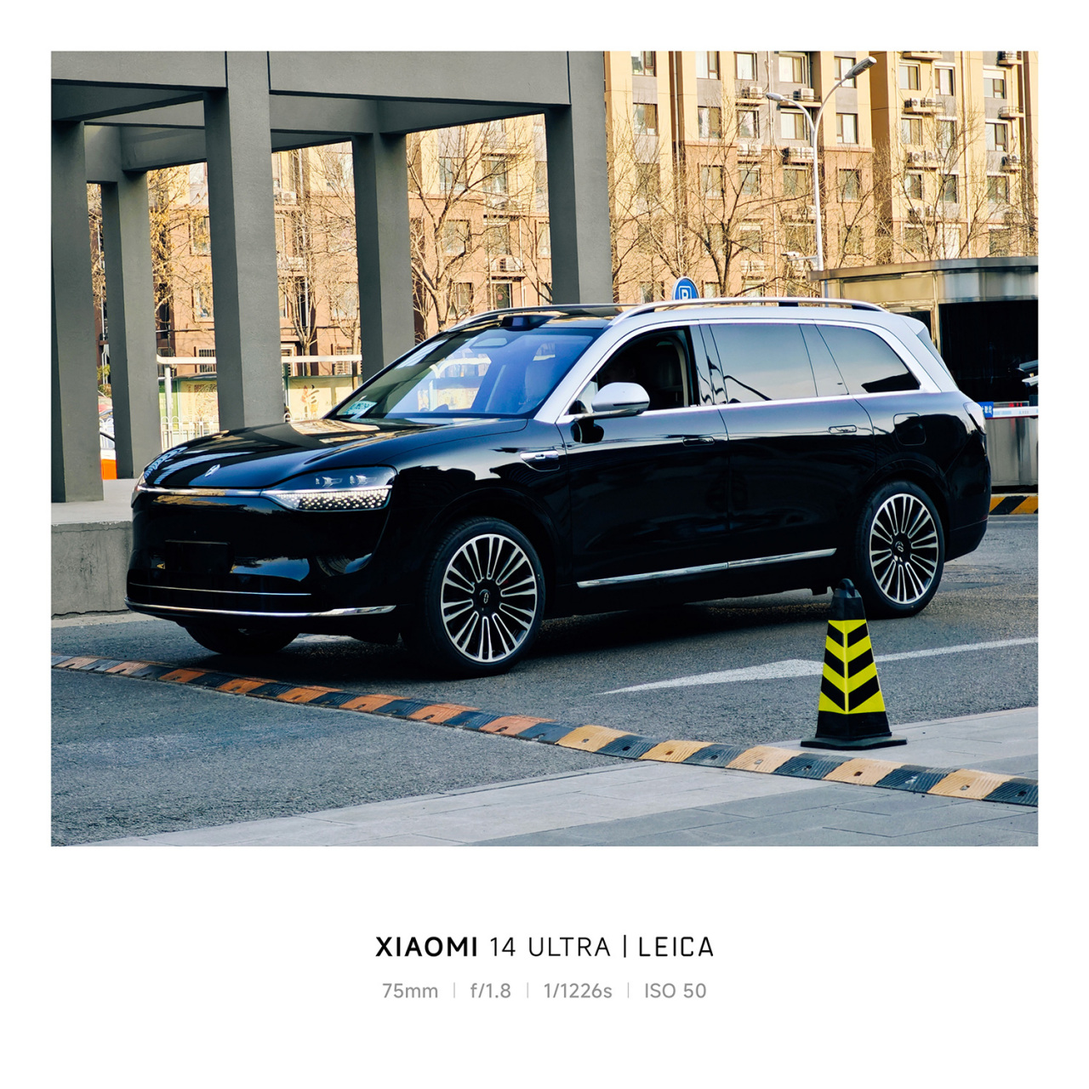other: (124, 299, 997, 659)
